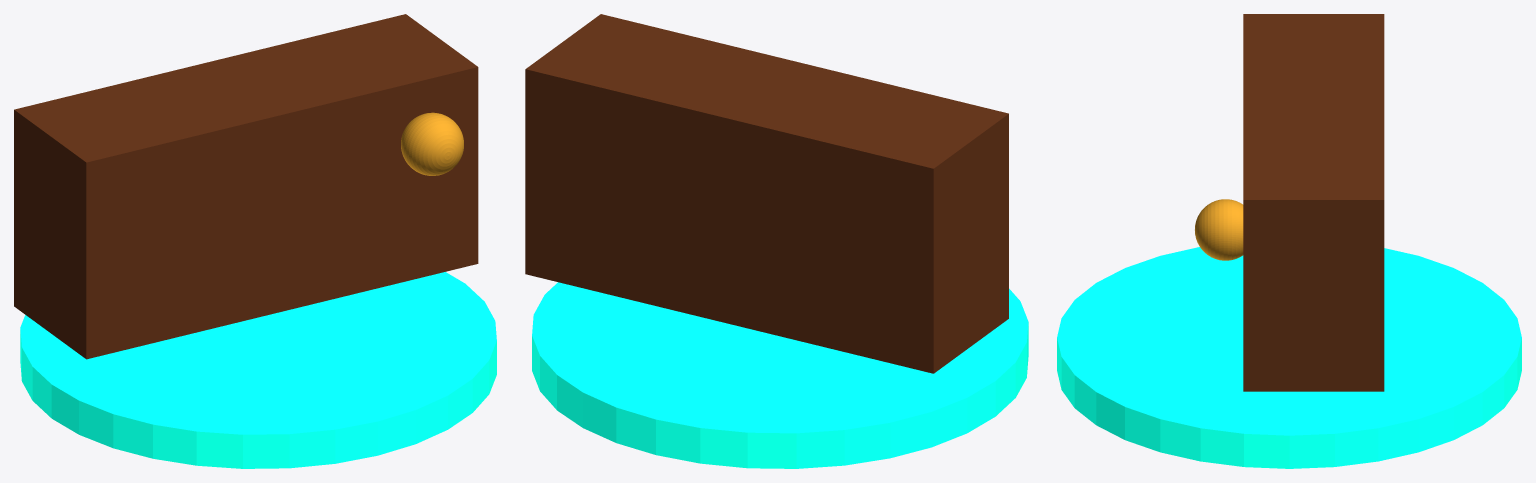
Rendered from fashion_wallet.dae.
The picture shows the model from 3 angles, left to right: view 1: azimuth 30°, elevation 25°; view 2: azimuth 150°, elevation 25°; view 3: azimuth 270°, elevation 25°; orthographic projection. The views are drawn at different scales.
Parts seen in each view (by area): view 1: 06_18_Popular_Fashion_Wallet_part_01, 06_18_Popular_Fashion_Wallet_ROOT_base, 06_18_Popular_Fashion_Wallet_part_02; view 2: 06_18_Popular_Fashion_Wallet_part_01, 06_18_Popular_Fashion_Wallet_ROOT_base; view 3: 06_18_Popular_Fashion_Wallet_ROOT_base, 06_18_Popular_Fashion_Wallet_part_01, 06_18_Popular_Fashion_Wallet_part_02.
Boxes of the visible parts, x1,y1,x2,y2 form: 06_18_Popular_Fashion_Wallet_part_01: (14, 14, 478, 359); 06_18_Popular_Fashion_Wallet_ROOT_base: (20, 272, 496, 468); 06_18_Popular_Fashion_Wallet_part_02: (401, 112, 463, 175); 06_18_Popular_Fashion_Wallet_part_01: (525, 14, 1008, 373); 06_18_Popular_Fashion_Wallet_ROOT_base: (532, 282, 1028, 468); 06_18_Popular_Fashion_Wallet_ROOT_base: (1057, 247, 1521, 468); 06_18_Popular_Fashion_Wallet_part_01: (1243, 14, 1384, 391); 06_18_Popular_Fashion_Wallet_part_02: (1195, 199, 1243, 260).
Bounding box in the file's own units: 0.76 × 0.4756 × 0.76.
